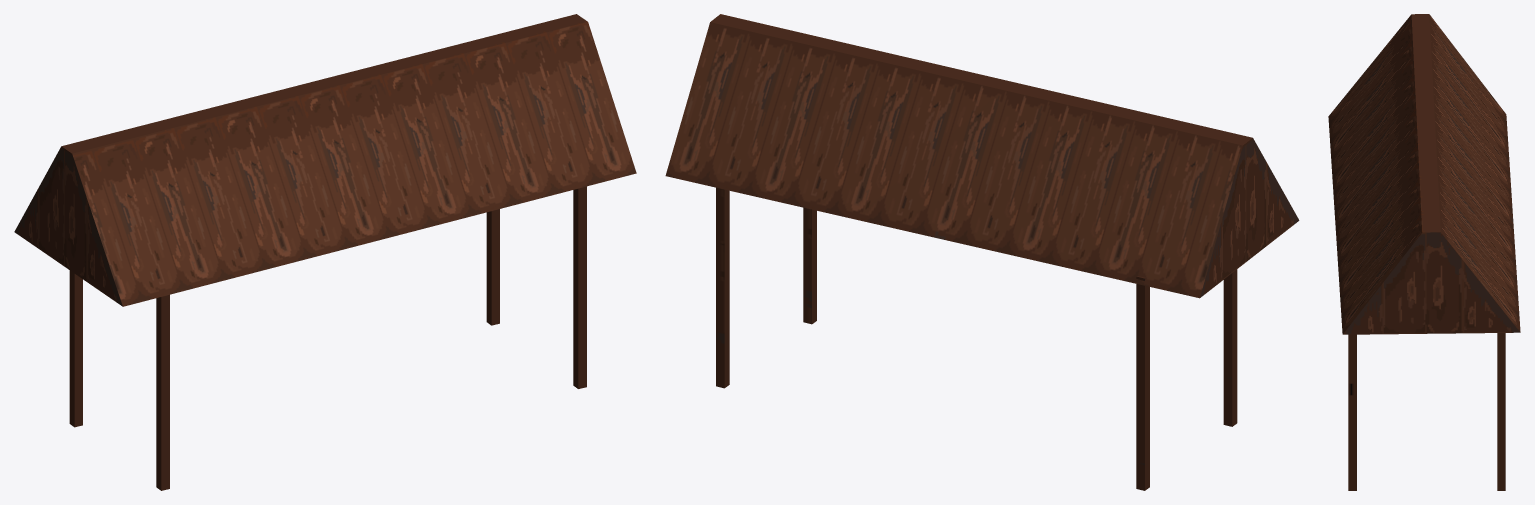
File: barraca1.fbx
3 views of the same model, side by side, from view 1: azimuth 30°, elevation 25°; view 2: azimuth 150°, elevation 25°; view 3: azimuth 270°, elevation 25° (orthographic). The views are drawn at different scales.
Parts seen in each view (by area): view 1: Barraca; view 2: Barraca; view 3: Barraca.
Part boxes in pixels (x1,y1,x2,y2): Barraca: (14,14,636,490); Barraca: (665,14,1299,490); Barraca: (1328,14,1520,490).
Size of the model in its own units: 592 by 347 by 218.
Materials: 1 (1 with a texture image).
